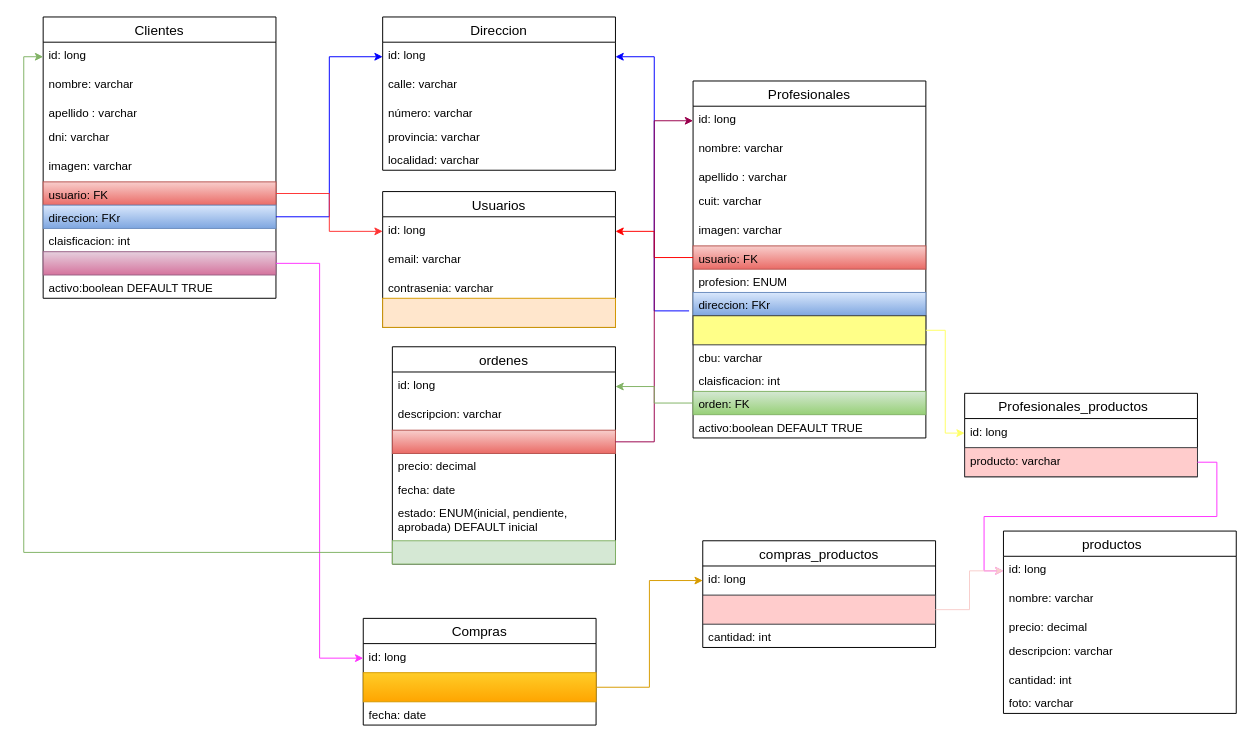
Some shapes in this 1253 by 745 pixel diagram are drawn without their labels. The shapes that lost their labels are listed below. From the top down, each one's centre as x and y in pixels, then its label:
At point (159, 263): "compra: FK".
At point (498, 312): "avatar: varchar DEFAULT url".
At point (809, 330): "P_P: FK".
At point (503, 441): "profecional: FK".
At point (503, 552): "cliente_id: FK".
At point (819, 609): "producto: FK".
At point (479, 687): "compras_productos: FK".
